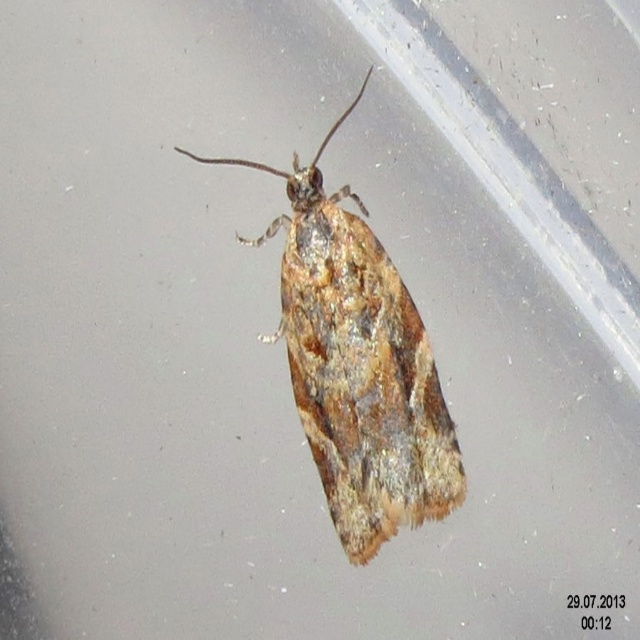Moths and butterflies: (173, 64, 469, 564)
